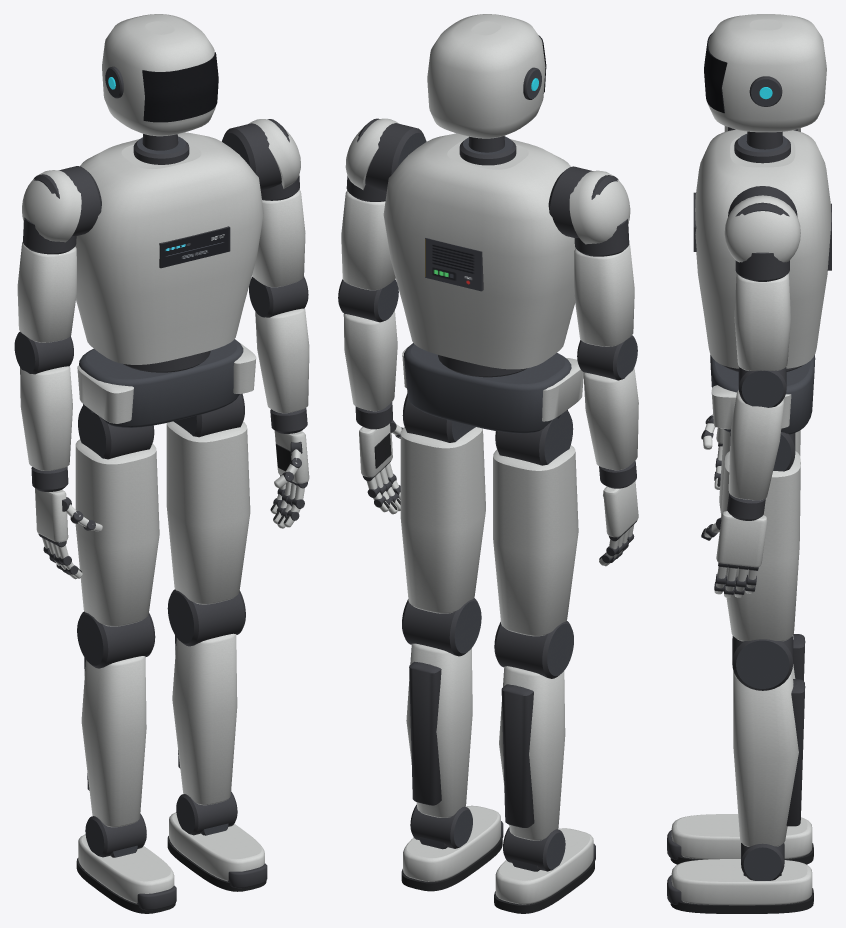
The model's file is source.glb.
3 renders of one model, left to right at view 1: azimuth 30°, elevation 25°; view 2: azimuth 150°, elevation 25°; view 3: azimuth 270°, elevation 25°, orthographic.
Parts seen in each view (by area): view 1: Torso cover, Thigh cover left, Thigh cover right, Arm covers right, Arm covers left, Shank cover right, Shank cover left, Head shell, Pelvis, Shoulder and elbow actuators right, Shoulder and elbow actuators left, Ankle and knee actuators left (+12 smaller); view 2: Torso cover, Thigh cover left, Thigh cover right, Arm covers right, Head shell, Arm covers left, Pelvis, Shank cover left, Shank cover right, Shoulder and elbow actuators right, Shoulder and elbow actuators left, Ankle and knee actuators left (+13 smaller); view 3: Torso cover, Arm covers left, Head shell, Shank cover left, Thigh cover left, Foot left, Shoulder and elbow actuators left, Foot right, Ankle and knee actuators left, Hand left, Pelvis, Neck actuators (+8 smaller).
Boxes of the visible parts, x1,y1,x2,y2 form: Torso cover: [75, 132, 263, 364]; Thigh cover left: [166, 421, 250, 604]; Thigh cover right: [75, 439, 159, 626]; Arm covers right: [17, 170, 81, 470]; Arm covers left: [248, 119, 309, 413]; Shank cover right: [81, 656, 146, 827]; Shank cover left: [172, 633, 237, 805]; Head shell: [102, 14, 215, 136]; Pelvis: [79, 339, 243, 427]; Shoulder and elbow actuators right: [14, 166, 101, 490]; Shoulder and elbow actuators left: [222, 119, 308, 432]; Ankle and knee actuators left: [167, 589, 245, 835]; Torso cover: [383, 133, 575, 369]; Thigh cover left: [400, 427, 485, 613]; Thigh cover right: [493, 445, 578, 636]; Arm covers right: [569, 170, 638, 470]; Head shell: [427, 14, 545, 138]; Arm covers left: [341, 118, 399, 411]; Pelvis: [404, 343, 571, 433]; Shank cover left: [406, 643, 472, 817]; Shank cover right: [499, 666, 565, 840]; Shoulder and elbow actuators right: [548, 166, 637, 488]; Shoulder and elbow actuators left: [338, 118, 426, 428]; Ankle and knee actuators left: [402, 598, 481, 849]; Torso cover: [695, 129, 831, 368]; Arm covers left: [724, 195, 800, 500]; Head shell: [707, 14, 826, 132]; Shank cover left: [733, 671, 798, 846]; Thigh cover left: [721, 451, 800, 641]; Foot left: [667, 859, 813, 913]; Shoulder and elbow actuators left: [727, 186, 797, 520]; Foot right: [667, 814, 813, 864]; Ankle and knee actuators left: [732, 636, 793, 880]; Hand left: [701, 511, 767, 597]; Pelvis: [710, 354, 815, 434]; Neck actuators: [734, 131, 790, 163].
Bounding box in the file's own units: 0.5988 × 1.73 × 0.3027.
Materials: 7 (7 with a texture image).
